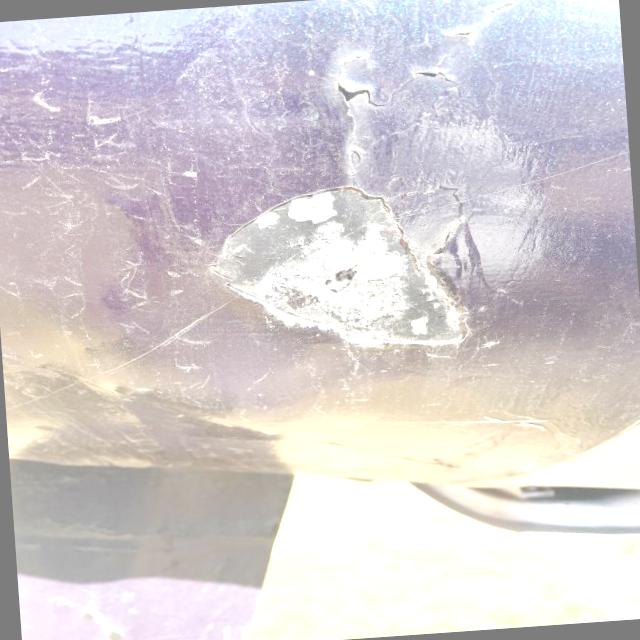crack: (320, 42, 466, 116), (432, 6, 516, 42)
dent: (188, 164, 498, 370)
